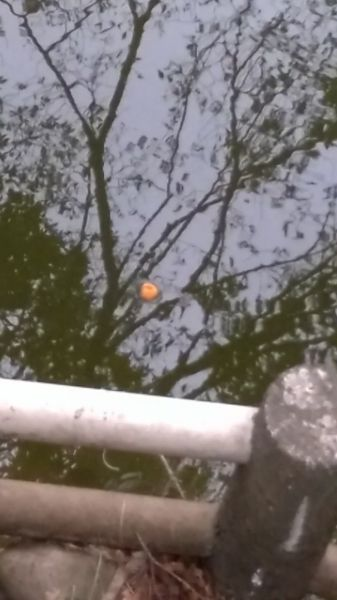eggs: (135, 276, 160, 301)
